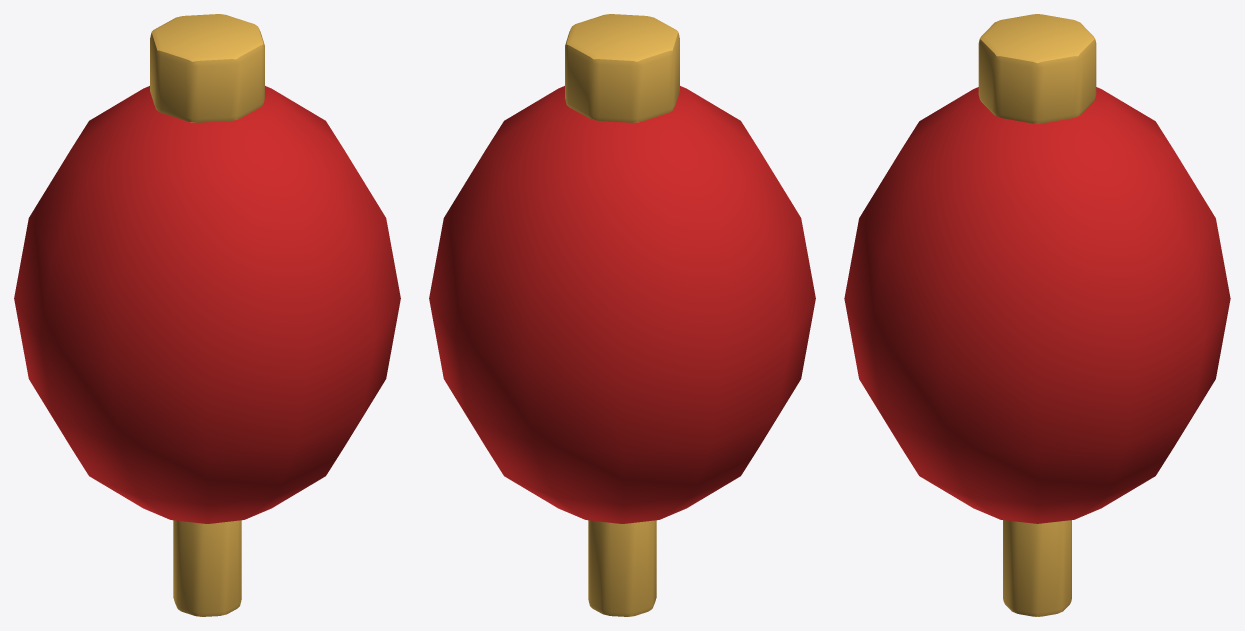
File: DecoLantern.fbx
3 views of the same model, side by side, from view 1: azimuth 30°, elevation 25°; view 2: azimuth 150°, elevation 25°; view 3: azimuth 270°, elevation 25° (orthographic).
Visible parts, largest first — view 1: DecoLantern; view 2: DecoLantern; view 3: DecoLantern.
Part boxes in pixels (x1,y1,x2,y2): DecoLantern: (14, 14, 400, 616); DecoLantern: (429, 14, 815, 616); DecoLantern: (844, 14, 1230, 616).
Bounding box in the file's own units: 160 × 260 × 160.
